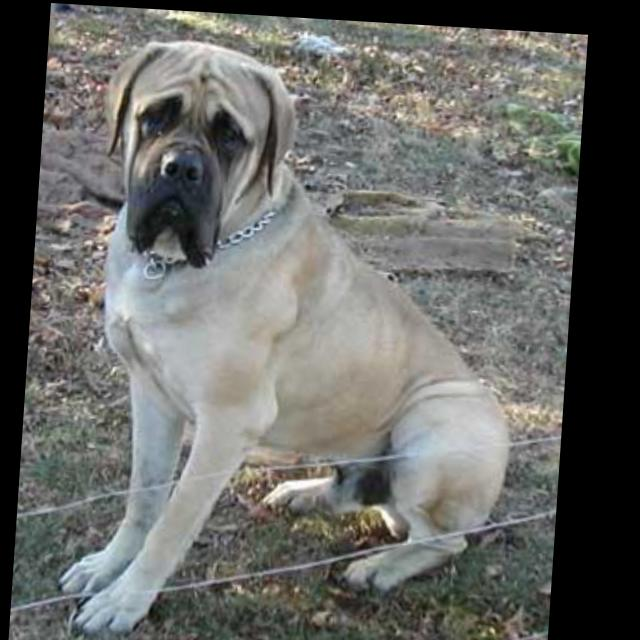bullmastiff: (65, 31, 541, 640)
